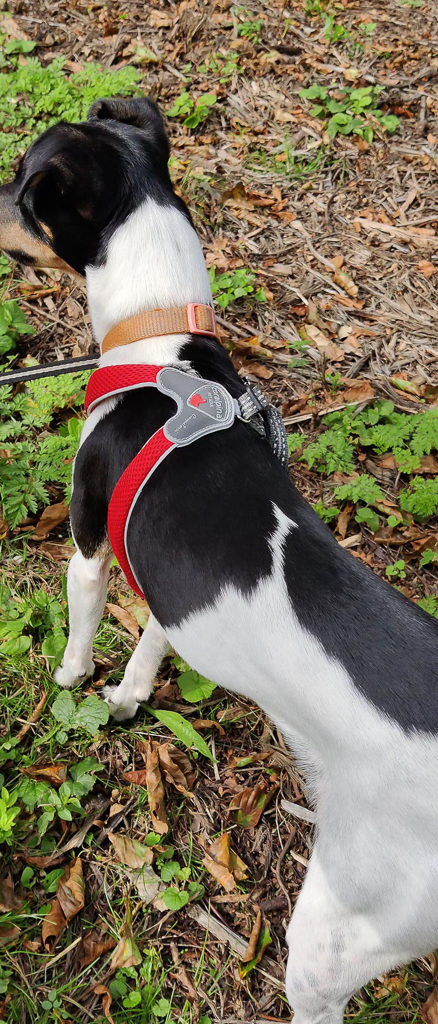Dog: (0, 77, 438, 1024)
